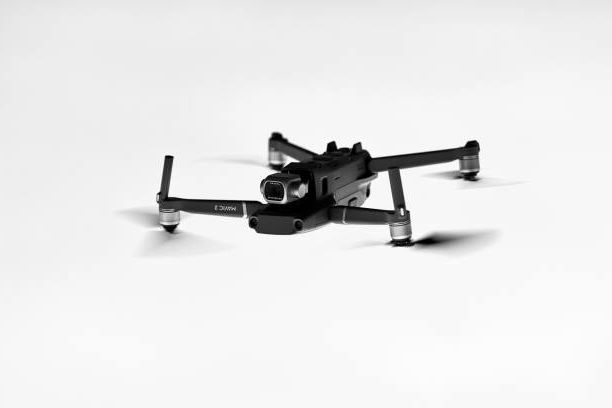Drone: (108, 125, 512, 255)
